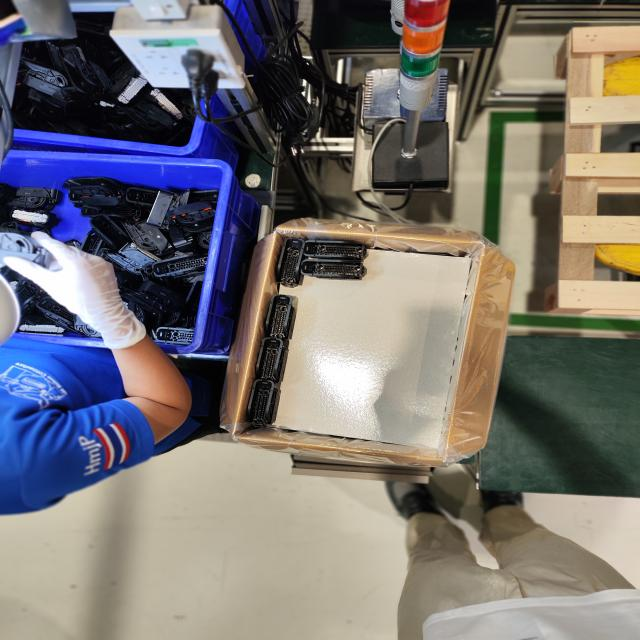P38: (277, 237, 309, 288), (247, 379, 280, 427), (265, 294, 296, 341), (255, 337, 286, 383), (300, 259, 366, 280), (303, 240, 367, 261)
